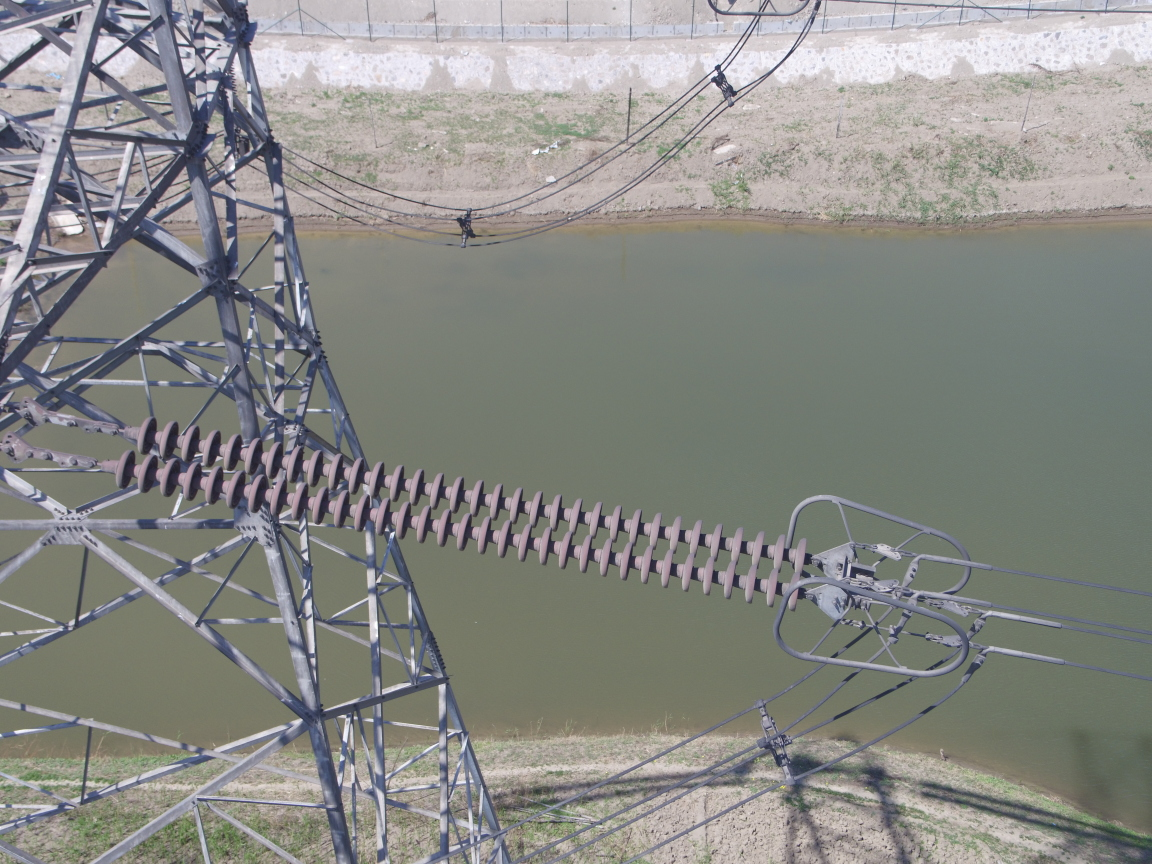insulator: (66, 411, 833, 614)
